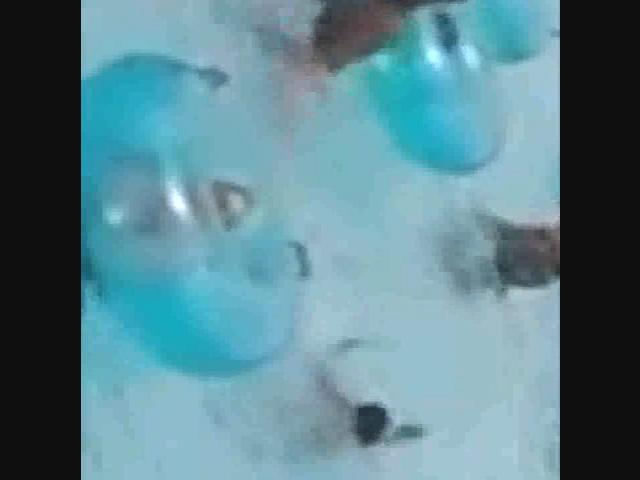drowning: (299, 334, 437, 480)
swimming: (311, 0, 489, 85)
